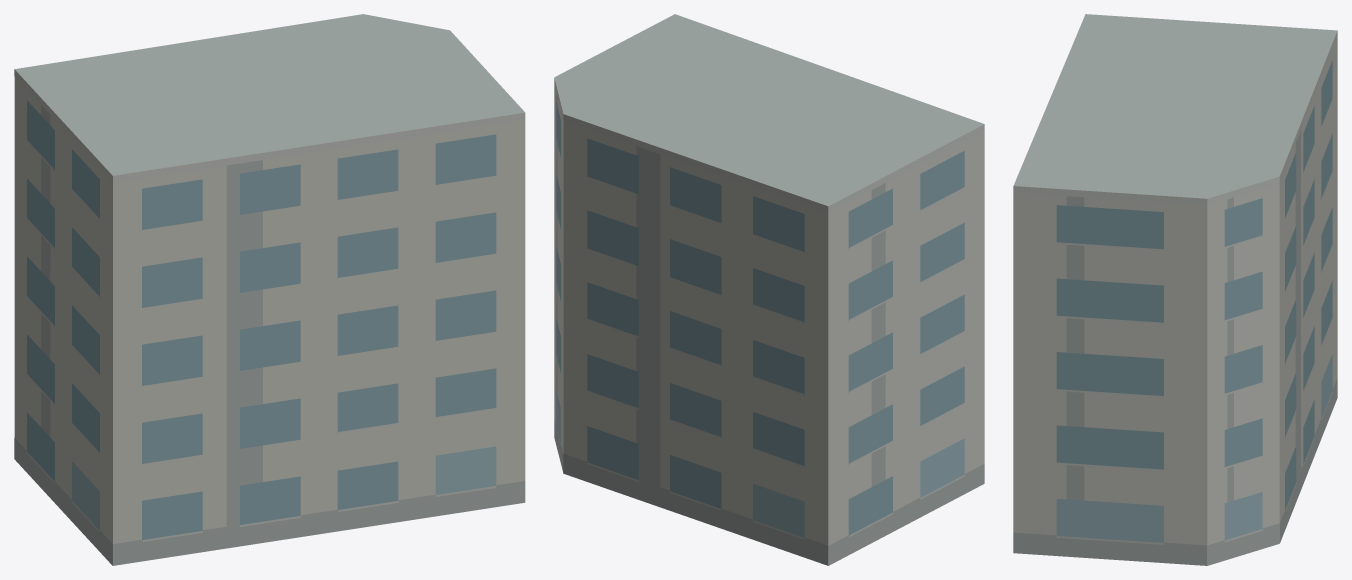
File: survey-upis-32830357.glb
3 views of the same model, side by side, from view 1: azimuth 30°, elevation 25°; view 2: azimuth 150°, elevation 25°; view 3: azimuth 270°, elevation 25° (orthographic). The views are drawn at different scales.
Parts seen in each view (by area): view 1: survey-upis-32830357.tmp; view 2: survey-upis-32830357.tmp; view 3: survey-upis-32830357.tmp.
Boxes of the visible parts, bbox=[...] form: survey-upis-32830357.tmp: bbox=[14, 14, 525, 565]; survey-upis-32830357.tmp: bbox=[554, 14, 984, 565]; survey-upis-32830357.tmp: bbox=[1013, 14, 1337, 565].
Size of the model in its own units: 14.41 by 13.35 by 10.69.
